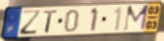0: (64, 9, 81, 33)
1: (90, 7, 100, 33), (113, 6, 123, 32)
M: (122, 4, 150, 32)
T: (43, 9, 59, 34)
Z: (19, 9, 43, 36)
